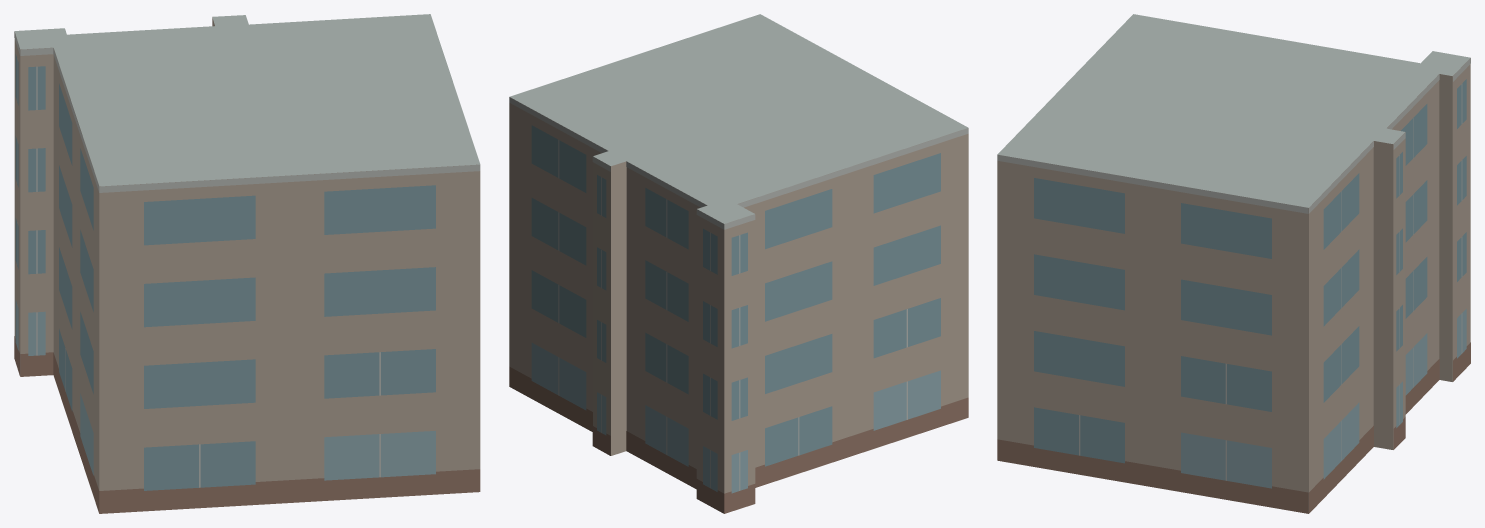
The model's file is survey-upis-32904678.glb.
The picture shows the model from 3 angles, left to right: view 1: azimuth 30°, elevation 25°; view 2: azimuth 150°, elevation 25°; view 3: azimuth 270°, elevation 25°; orthographic projection. The views are drawn at different scales.
Visible parts, largest first — view 1: survey-upis-32904678.tmp; view 2: survey-upis-32904678.tmp; view 3: survey-upis-32904678.tmp.
Boxes of the visible parts, <box> form: survey-upis-32904678.tmp: <box>14,14,480,513</box>; survey-upis-32904678.tmp: <box>509,14,968,513</box>; survey-upis-32904678.tmp: <box>997,14,1470,513</box>.
Bounding box in the file's own units: 16.59 × 12.2 × 17.12.
